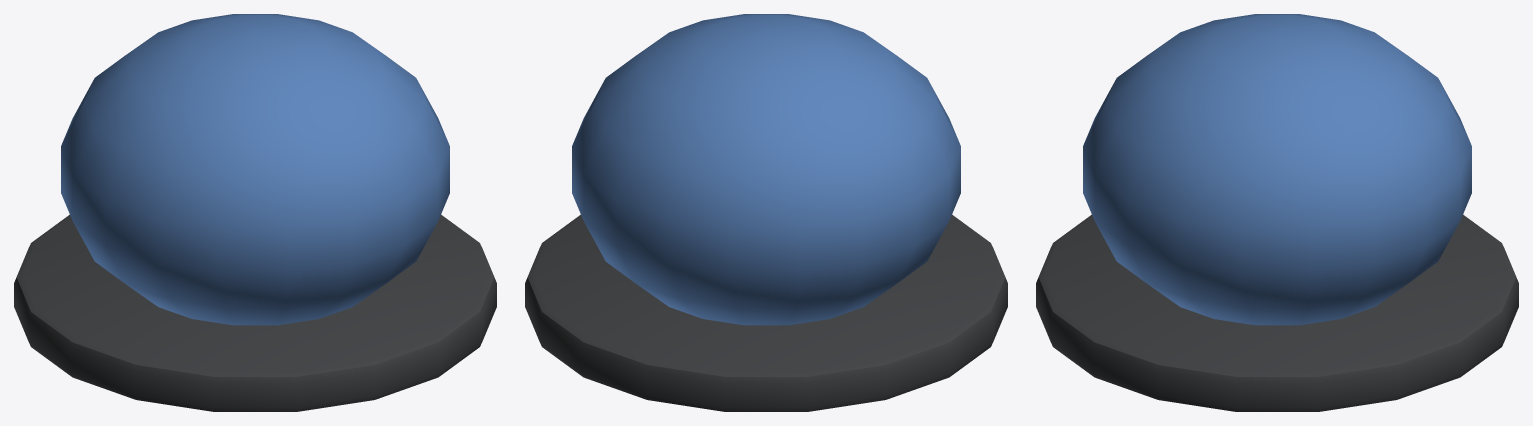
File: tee_marker_blue.glb
3 views of the same model, side by side, from view 1: azimuth 30°, elevation 25°; view 2: azimuth 150°, elevation 25°; view 3: azimuth 270°, elevation 25° (orthographic).
Parts seen in each view (by area): view 1: tee_marker_blue_body; view 2: tee_marker_blue_body; view 3: tee_marker_blue_body.
Part boxes in pixels (x1,y1,x2,y2): tee_marker_blue_body: (14,14,496,411); tee_marker_blue_body: (525,14,1007,411); tee_marker_blue_body: (1036,14,1518,411).
Size of the model in its own units: 0.2167 by 0.1405 by 0.22.
